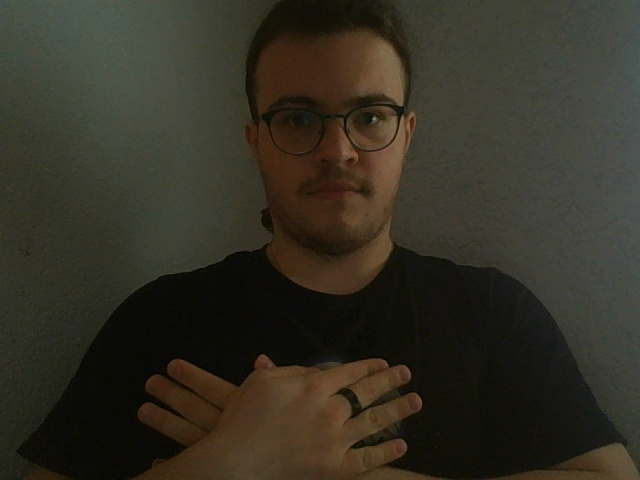Love: (134, 352, 425, 480)
